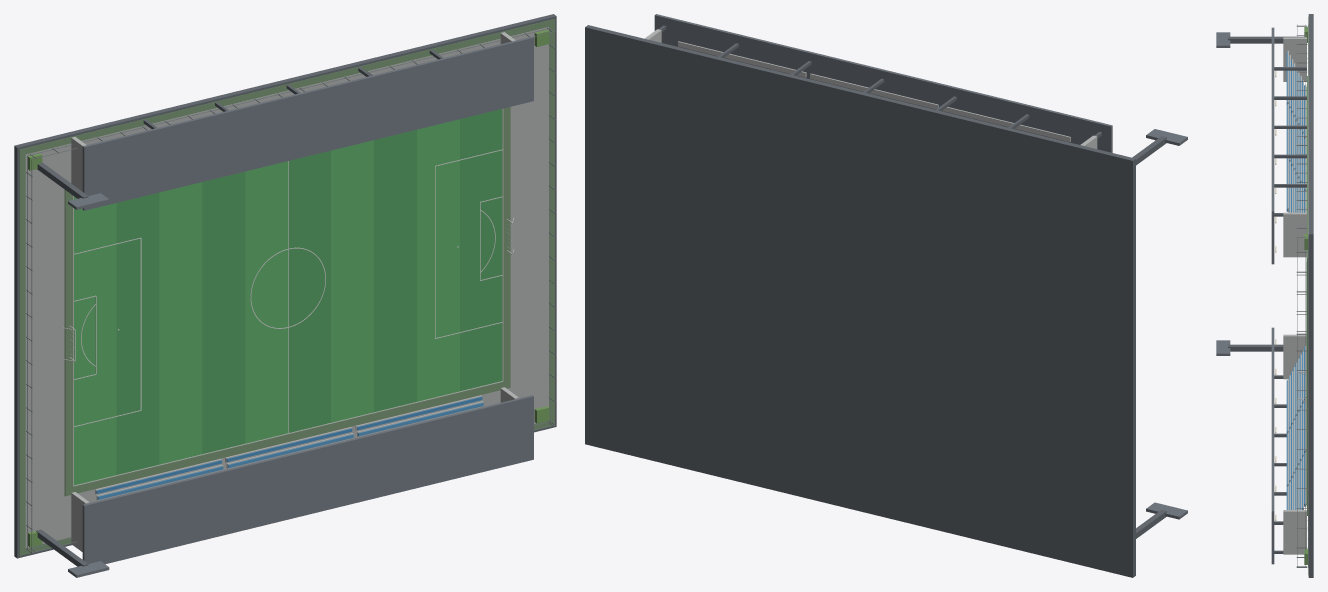
The model's file is stadium_level_2.glb.
3 renders of one model, left to right at view 1: azimuth 30°, elevation 25°; view 2: azimuth 150°, elevation 25°; view 3: azimuth 270°, elevation 25°, orthographic. The views are drawn at different scales.
Parts seen in each view (by area): view 1: roof, grass3, grass2, paving, ground, dark, concrete, white, rail, blue2, blue, hedge; view 2: dark, roof, concrete; view 3: concrete, dark, roof, blue, rail, blue2, ground, paving, white, grass, light, hedge.
Boxes of the visible parts, x1,y1,x2,y2 form: roof: (68,36,533,577); grass3: (116,109,502,474); grass2: (74,119,459,485); paving: (25,27,548,547); ground: (19,19,554,555); dark: (14,14,556,566); concrete: (71,32,518,551); white: (63,108,514,486); rail: (26,27,555,553); blue2: (97,402,483,499); blue: (96,396,482,493); hedge: (28,29,549,547); dark: (585,25,1166,577); roof: (654,14,1187,519); concrete: (644,29,1097,148); concrete: (1283,37,1306,554); dark: (1228,14,1313,577); roof: (1216,27,1274,564); blue: (1286,51,1304,509); rail: (1296,24,1307,567); blue2: (1289,55,1302,509); ground: (1307,17,1308,574); paving: (1308,24,1308,567); white: (1297,86,1306,505); grass: (1306,87,1306,504); light: (1275,71,1276,520); hedge: (1304,27,1307,564).
Bounding box in the file's own units: 132 × 98.64 × 24.7.
